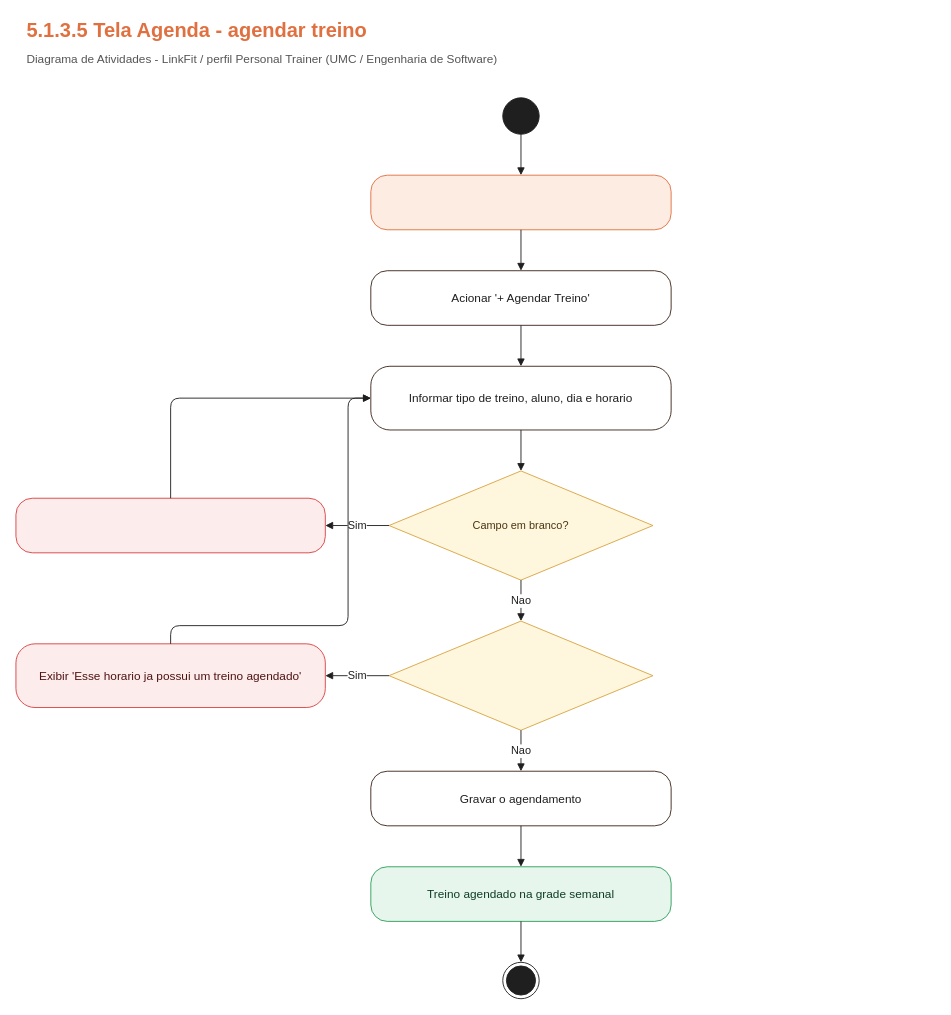
The diagram is 951 pixels wide and 1015 high, and some of its shapes have lost their labels. Each missing label, with the centre of its shape:
"Horario ja ocupado?" belongs at point (520, 675).
"Preencher o tipo do treino" belongs at point (170, 525).
"Tela Agenda" belongs at point (520, 202).
